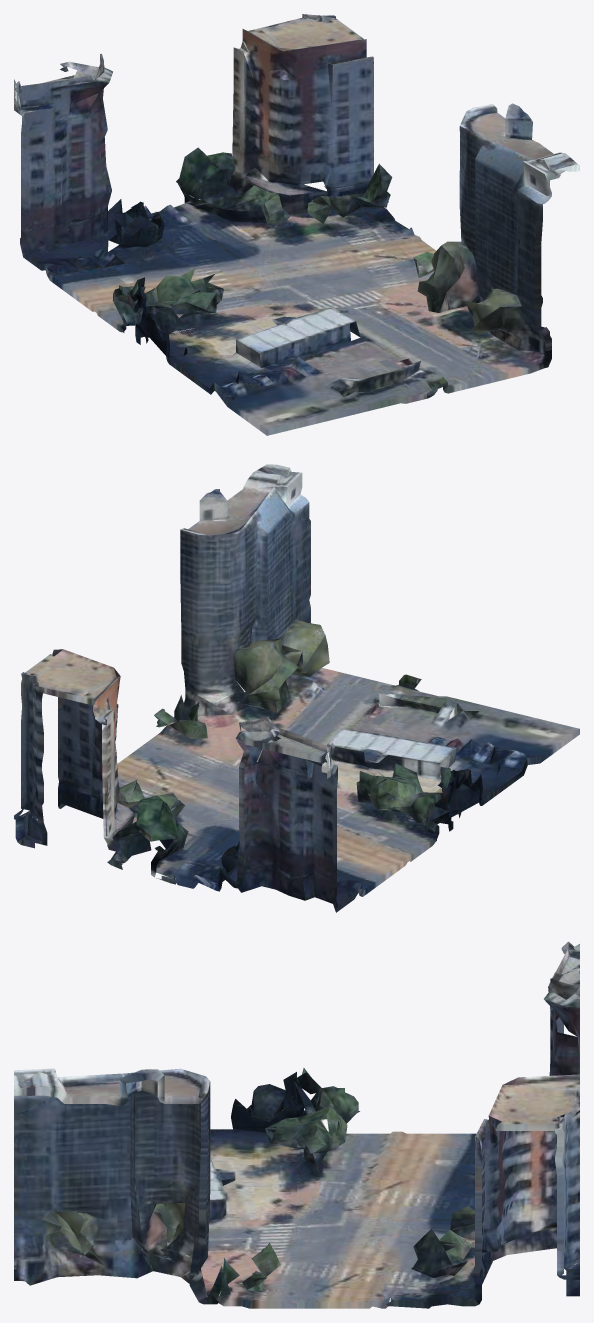
3 views of the same model, one above another, from view 1: azimuth 30°, elevation 25°; view 2: azimuth 150°, elevation 25°; view 3: azimuth 270°, elevation 25° (orthographic). The views are drawn at different scales.
Parts seen in each view (by area): view 1: 3043627270436140642_0; view 2: 3043627270436140642_0; view 3: 3043627270436140642_0.
Part boxes in pixels (bbox=[...]): 3043627270436140642_0: bbox=[14, 14, 579, 435]; 3043627270436140642_0: bbox=[14, 464, 579, 912]; 3043627270436140642_0: bbox=[14, 941, 579, 1308].
Bounding box in the file's own units: 54.63 × 35.44 × 76.52.
Materials: 1 (1 with a texture image).
